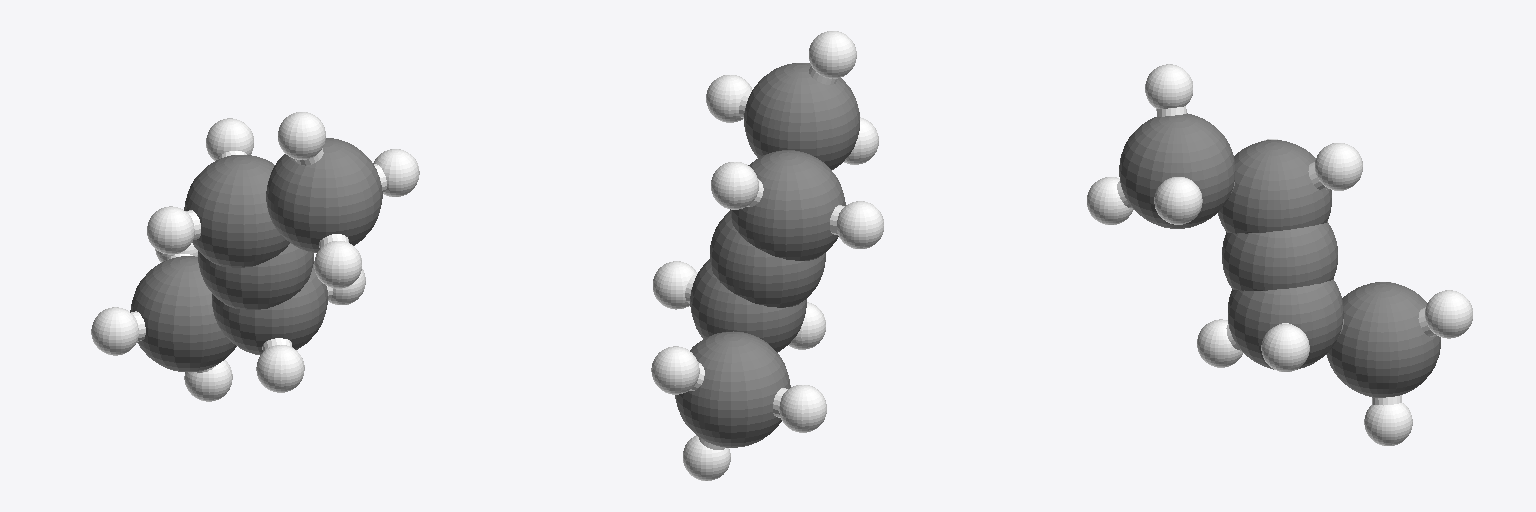
File: propane3D.obj
3 renders of one model, left to right at view 1: azimuth 30°, elevation 25°; view 2: azimuth 150°, elevation 25°; view 3: azimuth 270°, elevation 25°, orthographic.
Visible parts, largest first — view 1: Carbon_ball_SurfSphere.004, Hydrogen_ball_SurfSphere.005, Carbon_ball.001_SurfSphere, Hydrogen_sticks_cylinder.002; view 2: Carbon_ball_SurfSphere.004, Hydrogen_ball_SurfSphere.005, Carbon_ball.001_SurfSphere, Hydrogen_sticks_cylinder.002; view 3: Carbon_ball_SurfSphere.004, Hydrogen_ball_SurfSphere.005, Carbon_ball.001_SurfSphere, Hydrogen_sticks_cylinder.002.
Boxes of the visible parts, <box> form: Carbon_ball_SurfSphere.004: <box>130,138,382,371</box>; Hydrogen_ball_SurfSphere.005: <box>91,112,419,401</box>; Carbon_ball.001_SurfSphere: <box>198,243,313,309</box>; Hydrogen_sticks_cylinder.002: <box>131,148,386,372</box>; Carbon_ball_SurfSphere.004: <box>675,63,859,447</box>; Hydrogen_ball_SurfSphere.005: <box>651,31,883,480</box>; Carbon_ball.001_SurfSphere: <box>710,211,825,307</box>; Hydrogen_sticks_cylinder.002: <box>685,66,844,449</box>; Carbon_ball_SurfSphere.004: <box>1119,113,1440,397</box>; Hydrogen_ball_SurfSphere.005: <box>1087,64,1472,445</box>; Carbon_ball.001_SurfSphere: <box>1222,221,1337,290</box>; Hydrogen_sticks_cylinder.002: <box>1117,106,1435,405</box>.
Bounding box in the file's own units: 3.34 × 5.39 × 5.11.